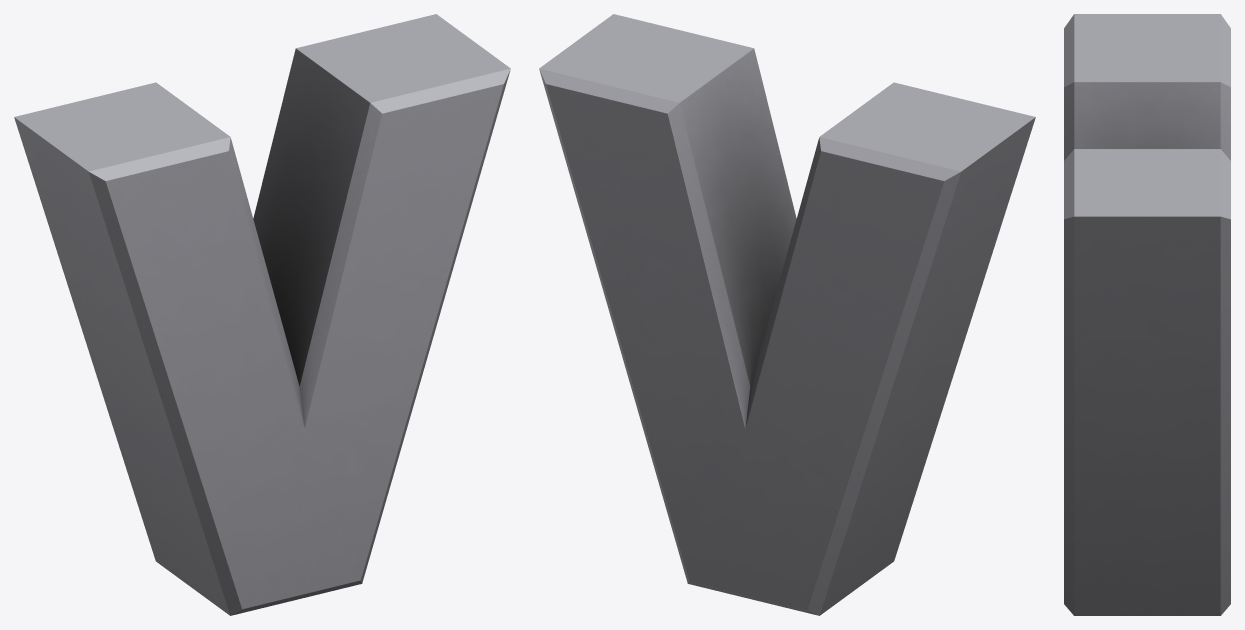
File: V_static.fbx
3 renders of one model, left to right at view 1: azimuth 30°, elevation 25°; view 2: azimuth 150°, elevation 25°; view 3: azimuth 270°, elevation 25°, orthographic.
Parts seen in each view (by area): view 1: V_static; view 2: V_static; view 3: V_static.
Part boxes in pixels (left/top/right/bottom): V_static: left=14, top=14, right=510, bottom=615; V_static: left=539, top=14, right=1035, bottom=615; V_static: left=1064, top=14, right=1230, bottom=615.
Size of the model in its own units: 94.83 by 103 by 33.
